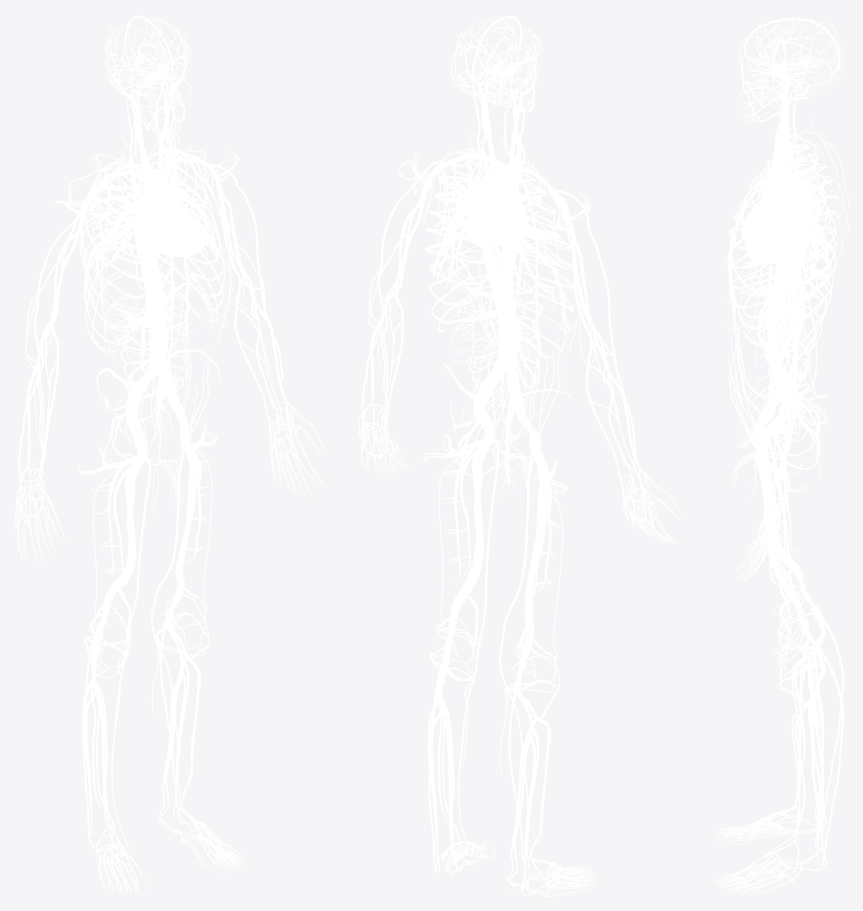
Rendered from cardiovascular_overview.glb.
3 renders of one model, left to right at view 1: azimuth 30°, elevation 25°; view 2: azimuth 150°, elevation 25°; view 3: azimuth 270°, elevation 25°, orthographic. The views are drawn at different scales.
Visible parts, largest first — view 1: Left coronary artery, Left atrium; view 2: Left coronary artery, Left atrium; view 3: Left coronary artery, Left atrium.
Part boxes in pixels (x1,y1,x2,y2): Left coronary artery: (14, 14, 327, 896); Left atrium: (134, 203, 204, 256); Left coronary artery: (357, 15, 682, 896); Left atrium: (465, 201, 527, 252); Left coronary artery: (712, 14, 848, 896); Left atrium: (742, 194, 800, 263).
Size of the model in its own units: 0.664 by 1.7 by 0.2489.
5 materials, 5 textured.
